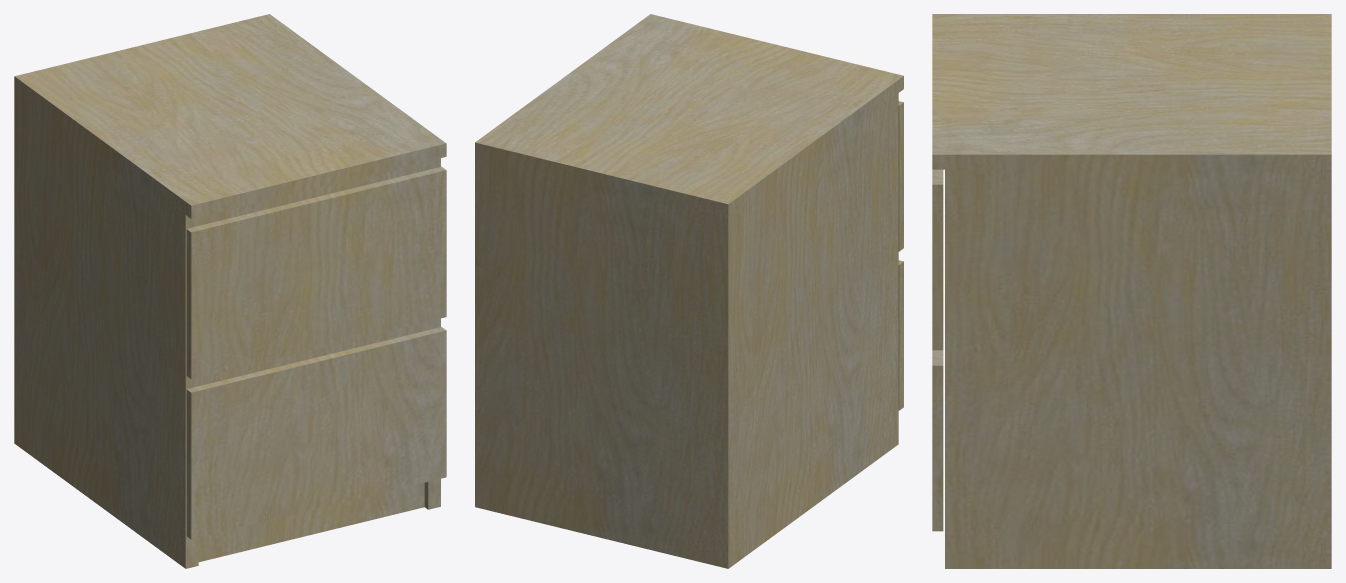
Rendered from malm_table_2_obj0_object.obj.
The picture shows the model from 3 angles, left to right: view 1: azimuth 30°, elevation 25°; view 2: azimuth 150°, elevation 25°; view 3: azimuth 270°, elevation 25°; orthographic projection. The views are drawn at different scales.
Visible parts, largest first — view 1: Mesh1 Group1 Model, Mesh2 Group1 Model, Mesh3 Group1 Model; view 2: Mesh1 Group1 Model, Mesh3 Group1 Model, Mesh2 Group1 Model; view 3: Mesh1 Group1 Model, Mesh2 Group1 Model, Mesh3 Group1 Model.
Boxes of the visible parts, x1,y1,x2,y2 form: Mesh1 Group1 Model: (14, 14, 446, 568); Mesh2 Group1 Model: (186, 327, 446, 539); Mesh3 Group1 Model: (186, 166, 446, 379); Mesh1 Group1 Model: (475, 14, 903, 568); Mesh3 Group1 Model: (898, 101, 903, 251); Mesh2 Group1 Model: (898, 260, 903, 410); Mesh1 Group1 Model: (932, 14, 1331, 568); Mesh2 Group1 Model: (932, 350, 943, 531); Mesh3 Group1 Model: (932, 169, 943, 350).
Bounding box in the file's own units: 15.75 × 21.65 × 18.9.
